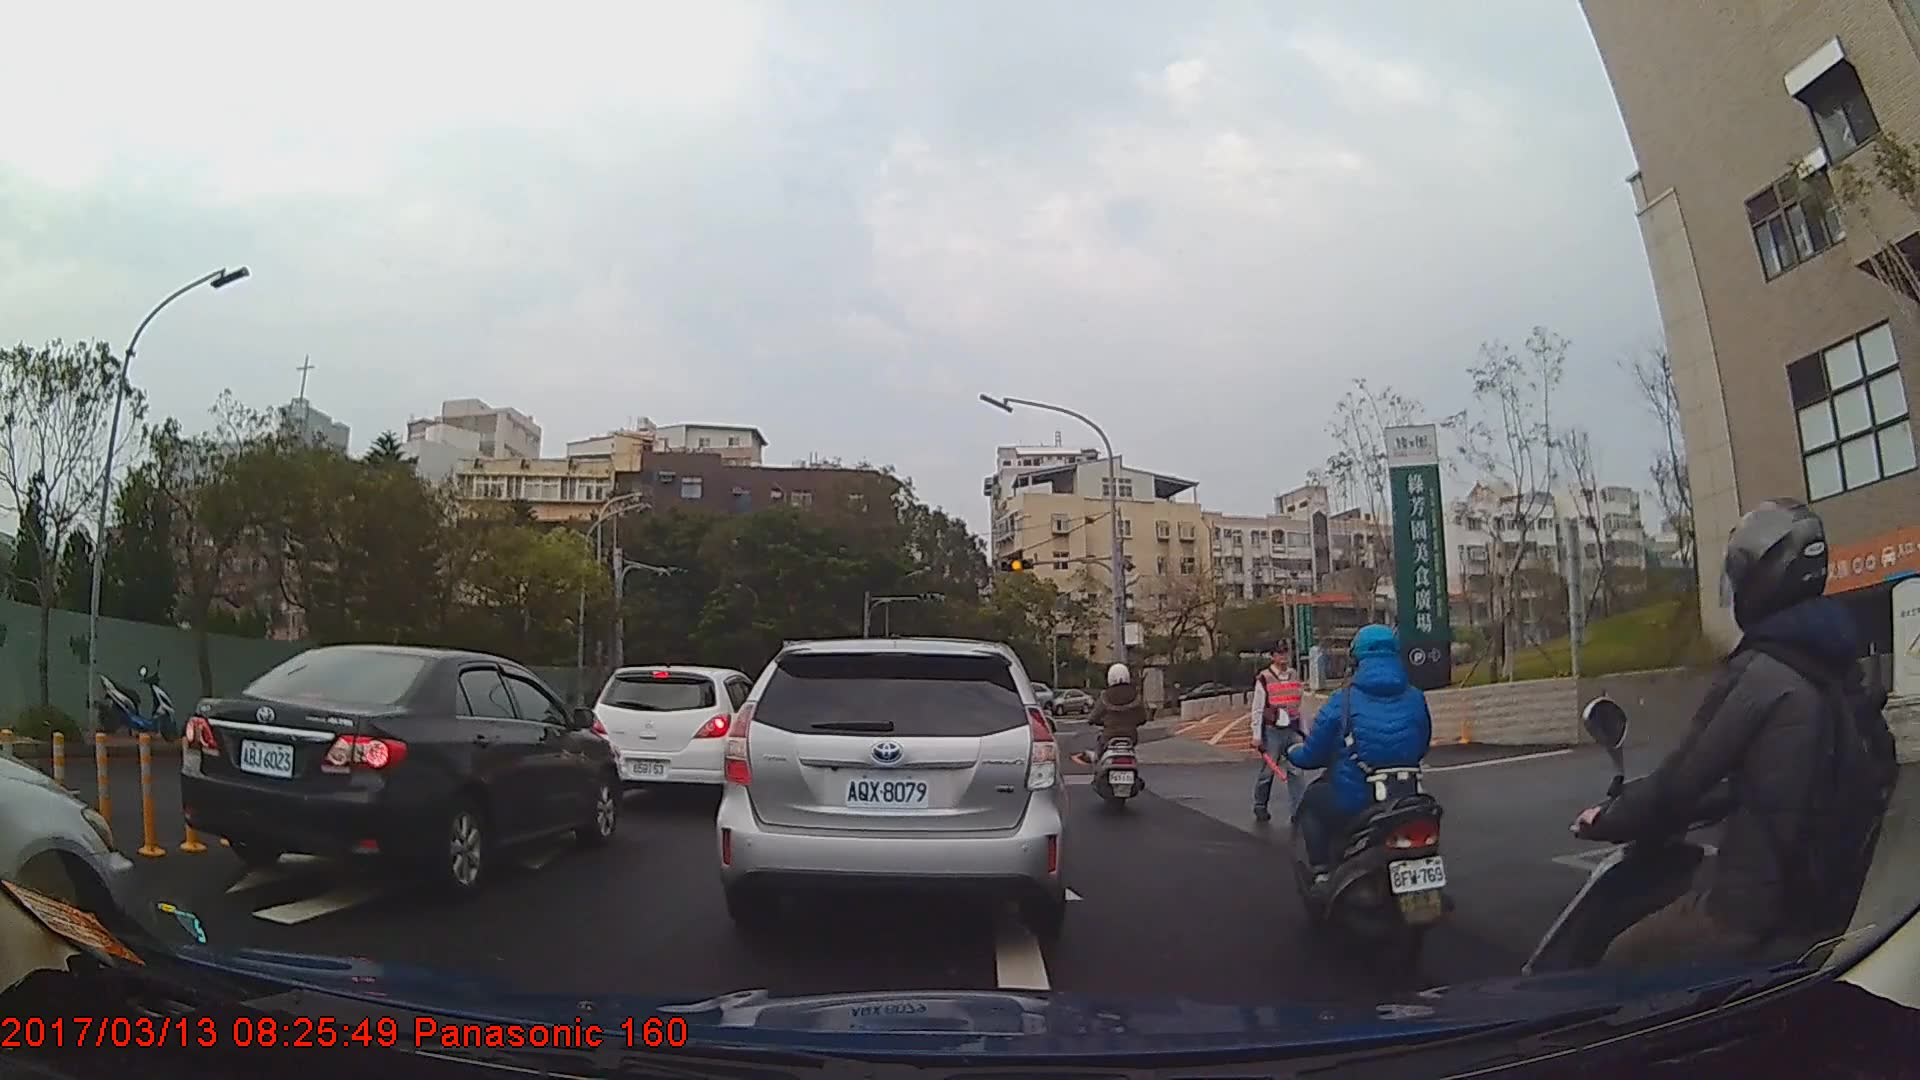pedestrian: (1247, 640, 1312, 825)
rider: (1524, 495, 1914, 1080), (1285, 620, 1457, 958), (1091, 666, 1154, 818)
vehicle: (179, 644, 623, 898), (716, 635, 1067, 936), (583, 664, 767, 809), (1170, 678, 1235, 711), (1053, 688, 1093, 717)
